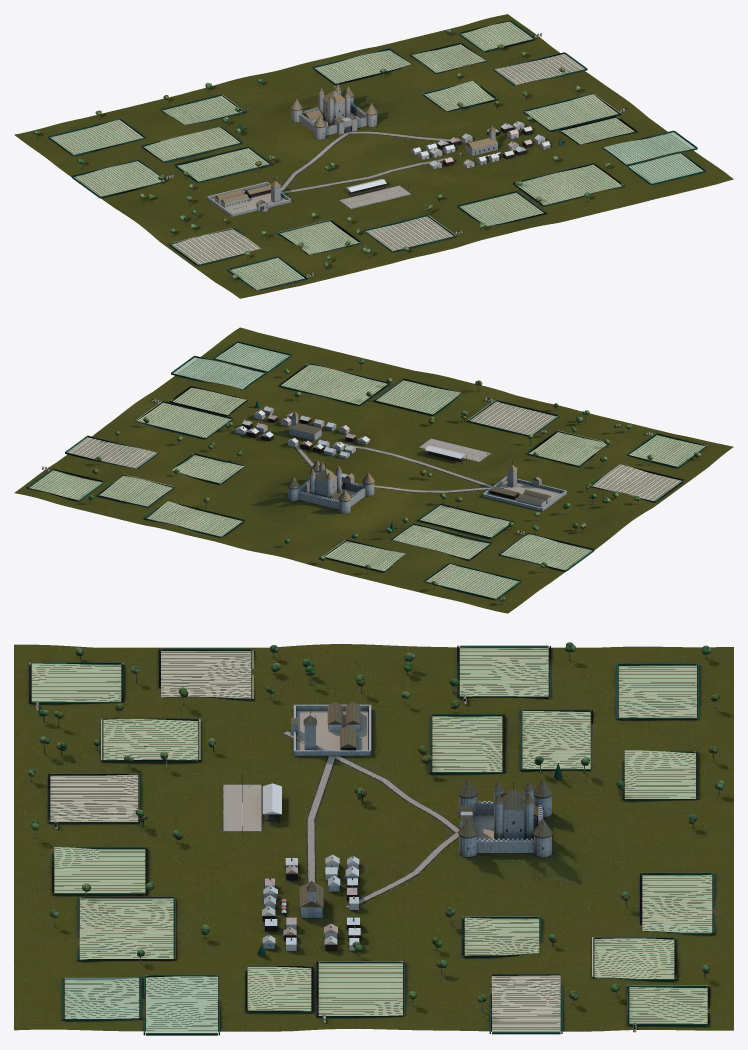
The model's file is fief5_low.glb.
The picture shows the model from 3 angles, top to bottom: view 1: azimuth 30°, elevation 25°; view 2: azimuth 150°, elevation 25°; view 3: azimuth 270°, elevation 25°; orthographic projection. The views are drawn at different scales.
Visible parts, largest first — view 1: site_terrain, props_fields, props_castle, props_village, props_trees, props_order, props_extra, props_roads; view 2: site_terrain, props_fields, props_castle, props_village, props_trees, props_order, props_roads, props_extra; view 3: site_terrain, props_fields, props_castle, props_trees, props_village, props_order, props_extra, props_roads.
Boxes of the visible parts, bbox=[...] form: site_terrain: bbox=[14, 14, 733, 298]; props_fields: bbox=[48, 20, 705, 290]; props_castle: bbox=[290, 83, 377, 139]; props_village: bbox=[411, 121, 550, 168]; props_trees: bbox=[33, 29, 610, 280]; props_order: bbox=[207, 176, 291, 216]; props_extra: bbox=[339, 179, 411, 208]; props_roads: bbox=[262, 131, 470, 211]; site_terrain: bbox=[14, 327, 733, 613]; props_fields: bbox=[27, 341, 706, 600]; props_castle: bbox=[287, 459, 374, 513]; props_village: bbox=[235, 406, 369, 458]; props_trees: bbox=[88, 359, 700, 603]; props_order: bbox=[482, 461, 566, 511]; props_roads: bbox=[295, 441, 531, 492]; props_extra: bbox=[419, 437, 490, 462]; site_terrain: bbox=[14, 644, 733, 1031]; props_fields: bbox=[29, 645, 714, 1035]; props_castle: bbox=[458, 778, 552, 857]; props_trees: bbox=[28, 642, 724, 1011]; props_village: bbox=[262, 854, 360, 950]; props_order: bbox=[291, 702, 371, 755]; props_extra: bbox=[223, 774, 281, 833]; props_roads: bbox=[283, 731, 459, 908].
Bounding box in the file's own units: 663 × 52 × 520.
8 materials, 8 textured.
